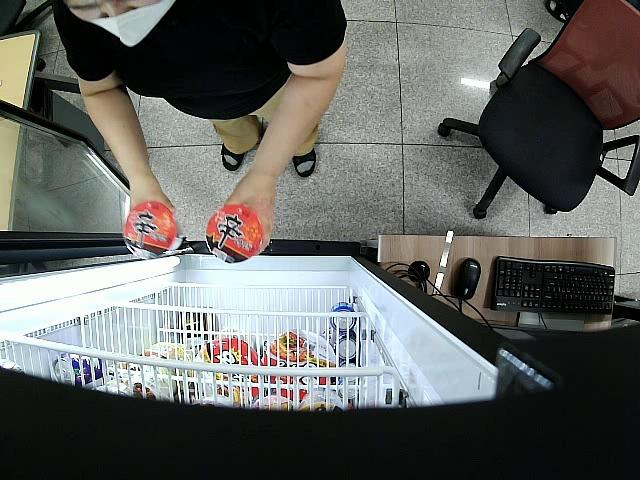00_hand: (223, 170, 277, 259), (127, 176, 177, 215)
02_shinRamen_S: (205, 203, 265, 264), (123, 202, 184, 259)
